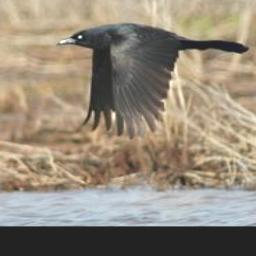Crow: (54, 21, 250, 140)
